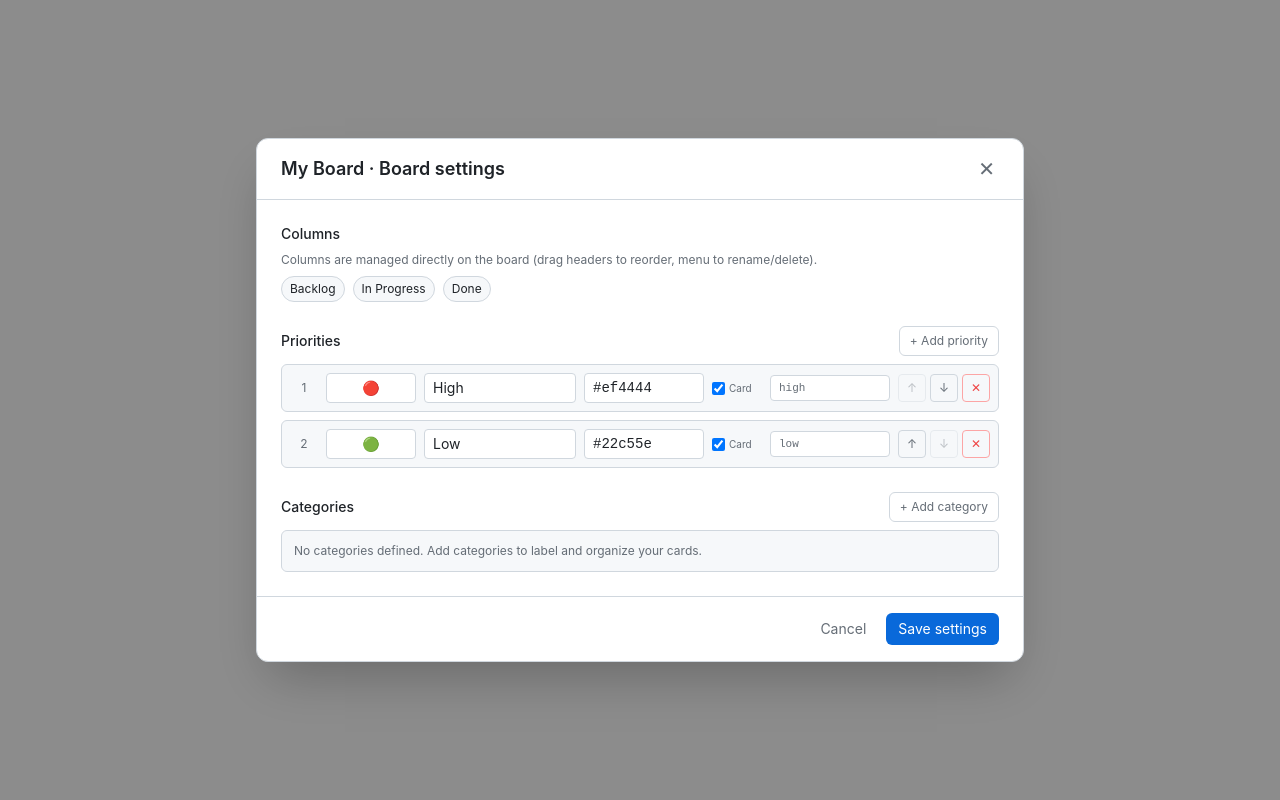
it: edit priority › clicking emoji picker and selecting emoji updates value
This screenshot has width=1280, height=800.
Open the picker
Click the button titled "Choose icon": (371, 388) [326,373,416,403]
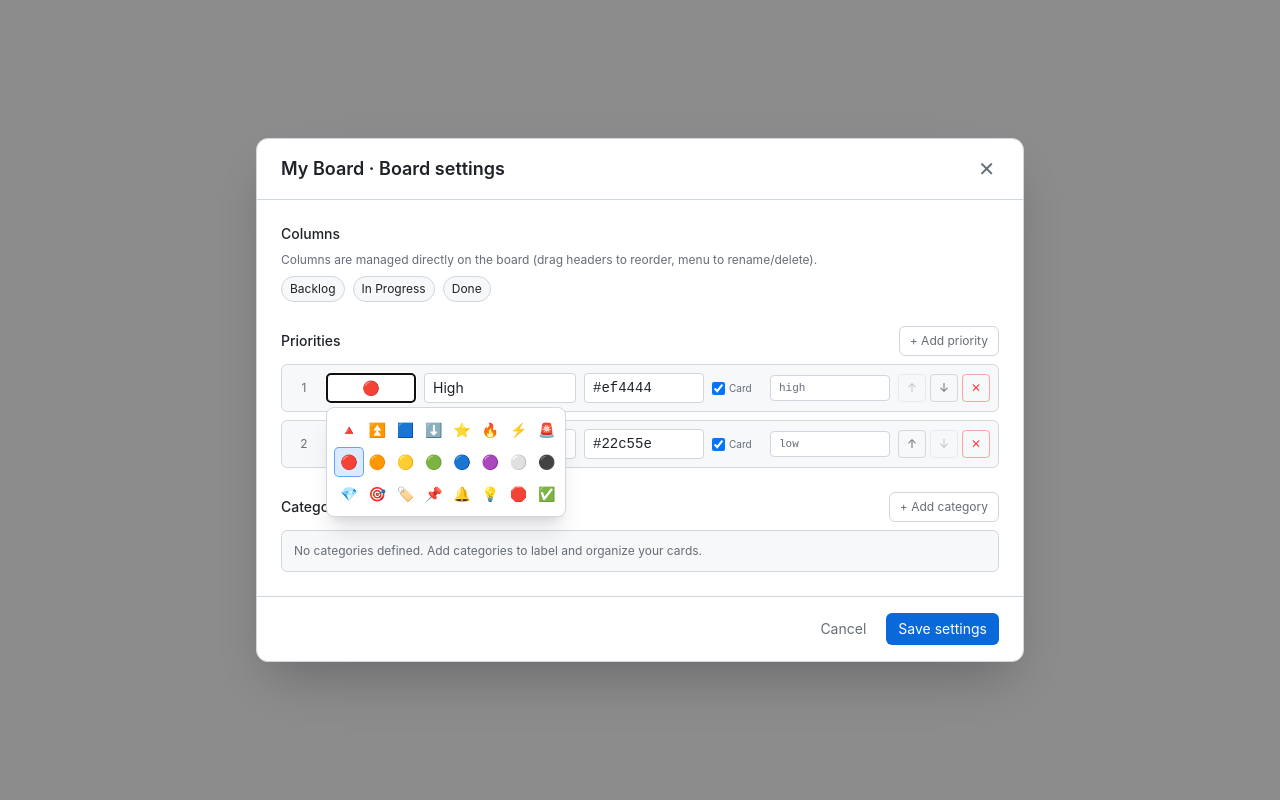
Select a different emoji from the grid
Click the button "🚨": (547, 430) [533,416,561,444]
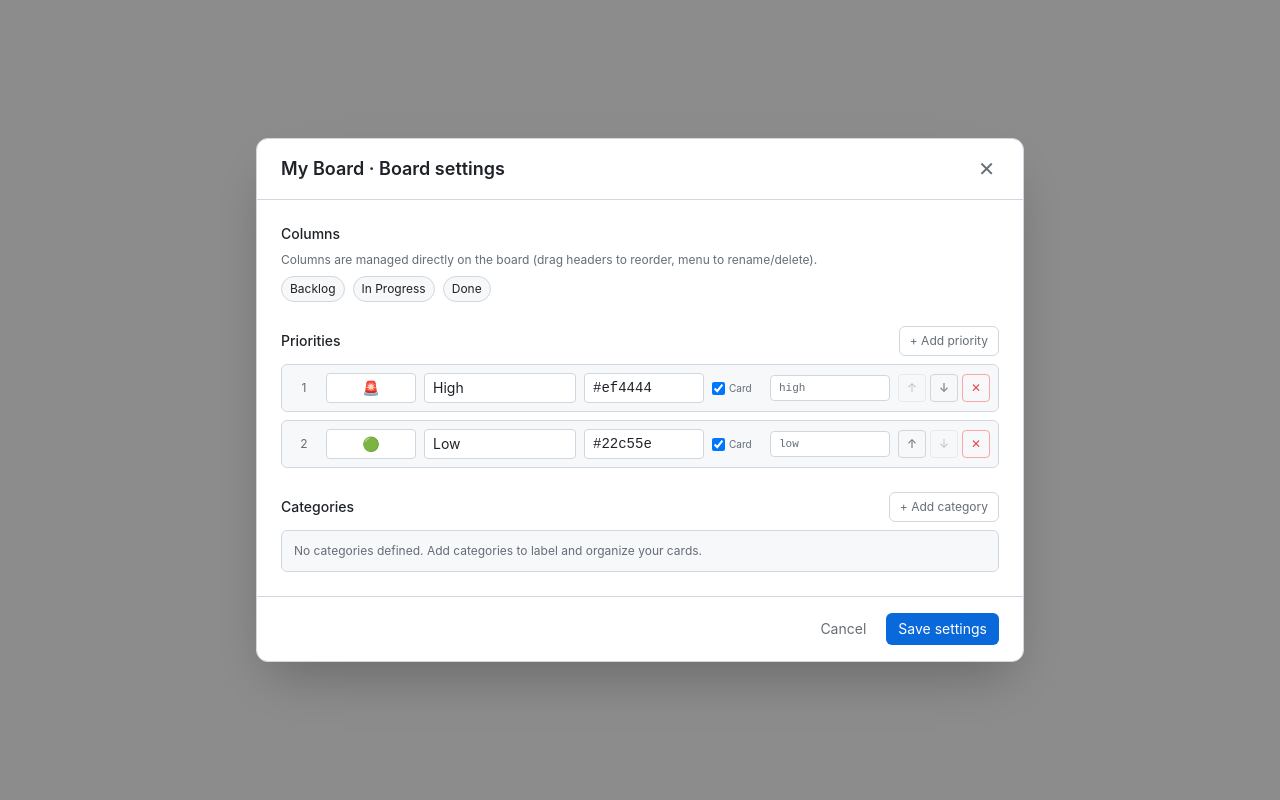
Result: the button titled "Choose icon" reads "🚨" at [326,373,416,403]
